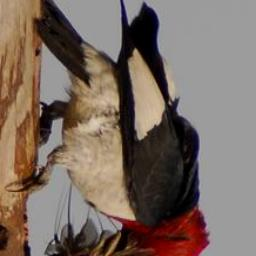Woodpecker: (7, 0, 209, 256)
